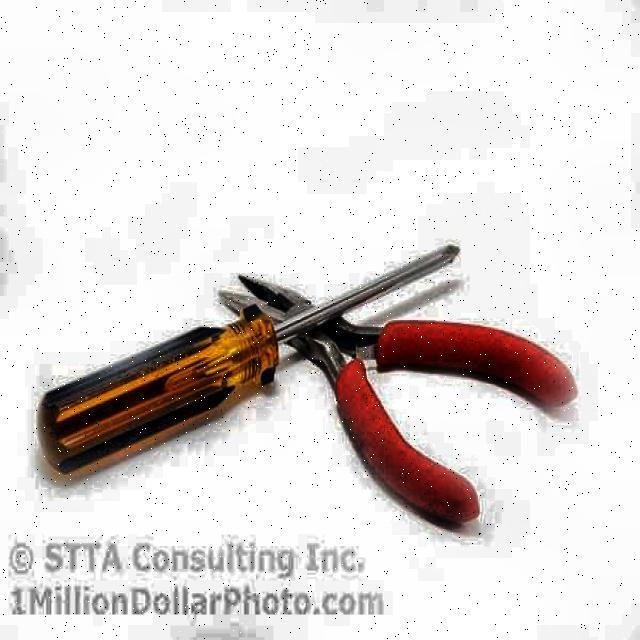screwdriver: (38, 244, 461, 478)
